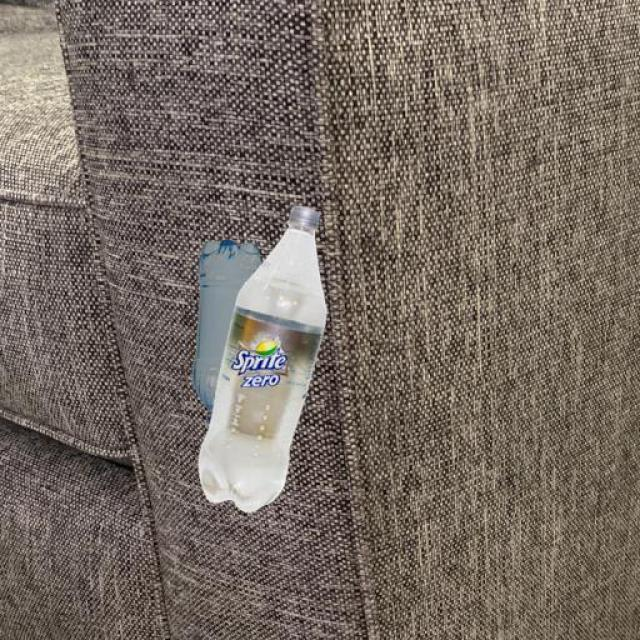bottle: (195, 202, 329, 514), (191, 238, 261, 412)
